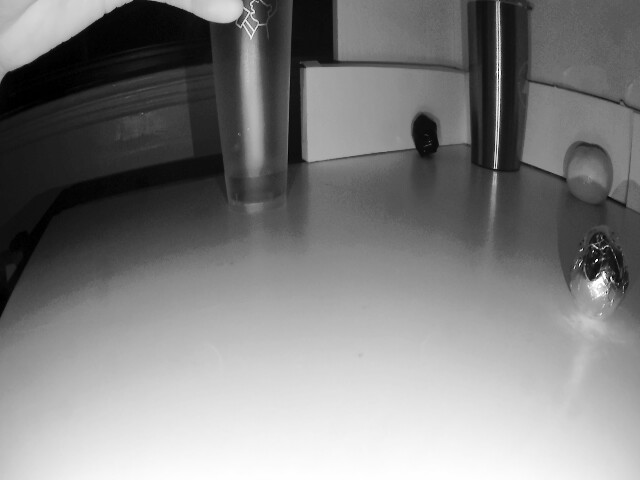black: (411, 107, 449, 164)
silver: (566, 226, 633, 326)
